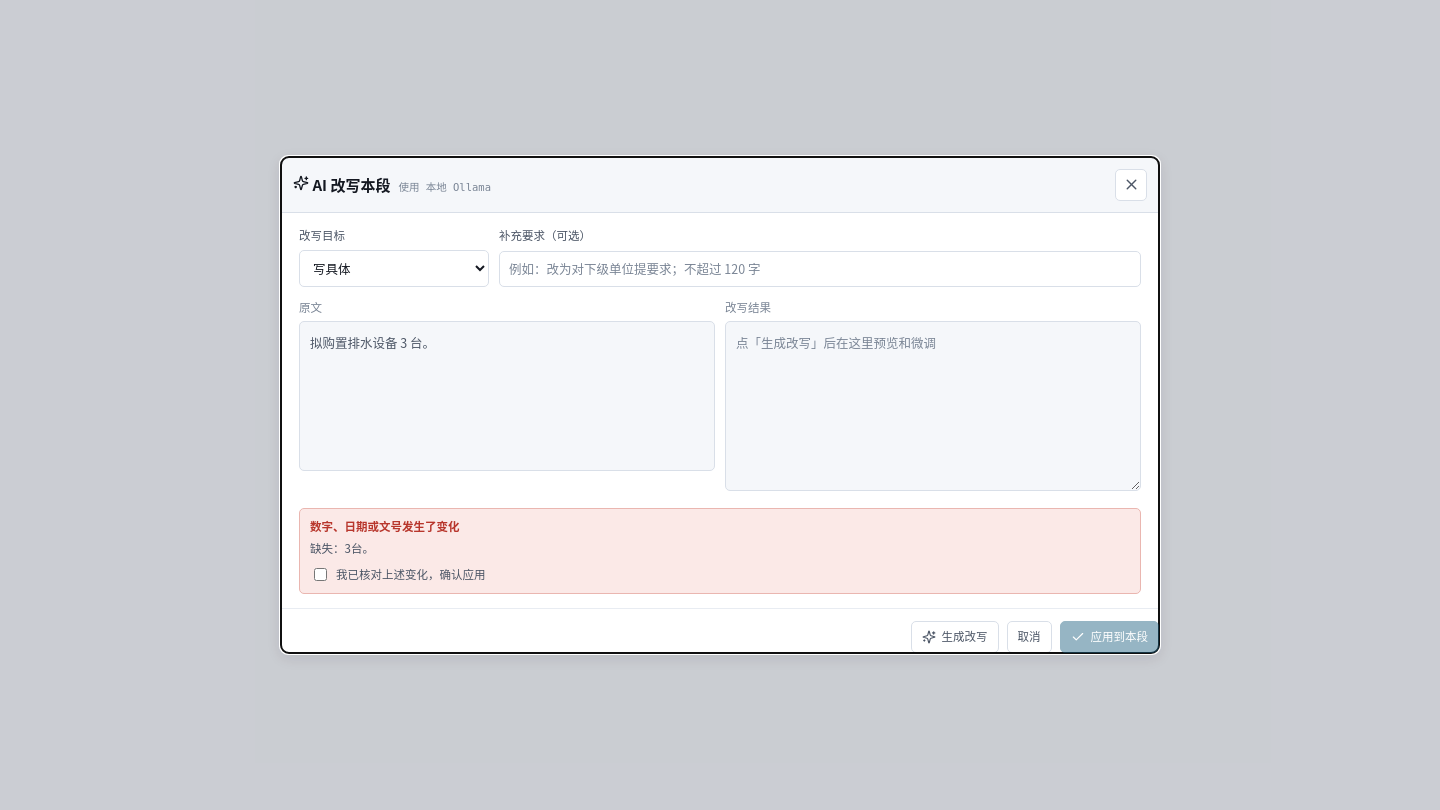
BlockRewriteDialog › reports model failures without touching the document
The image size is (1440, 810).
Click the button "生成改写".
click(954, 637)  # box [910, 621, 998, 653]
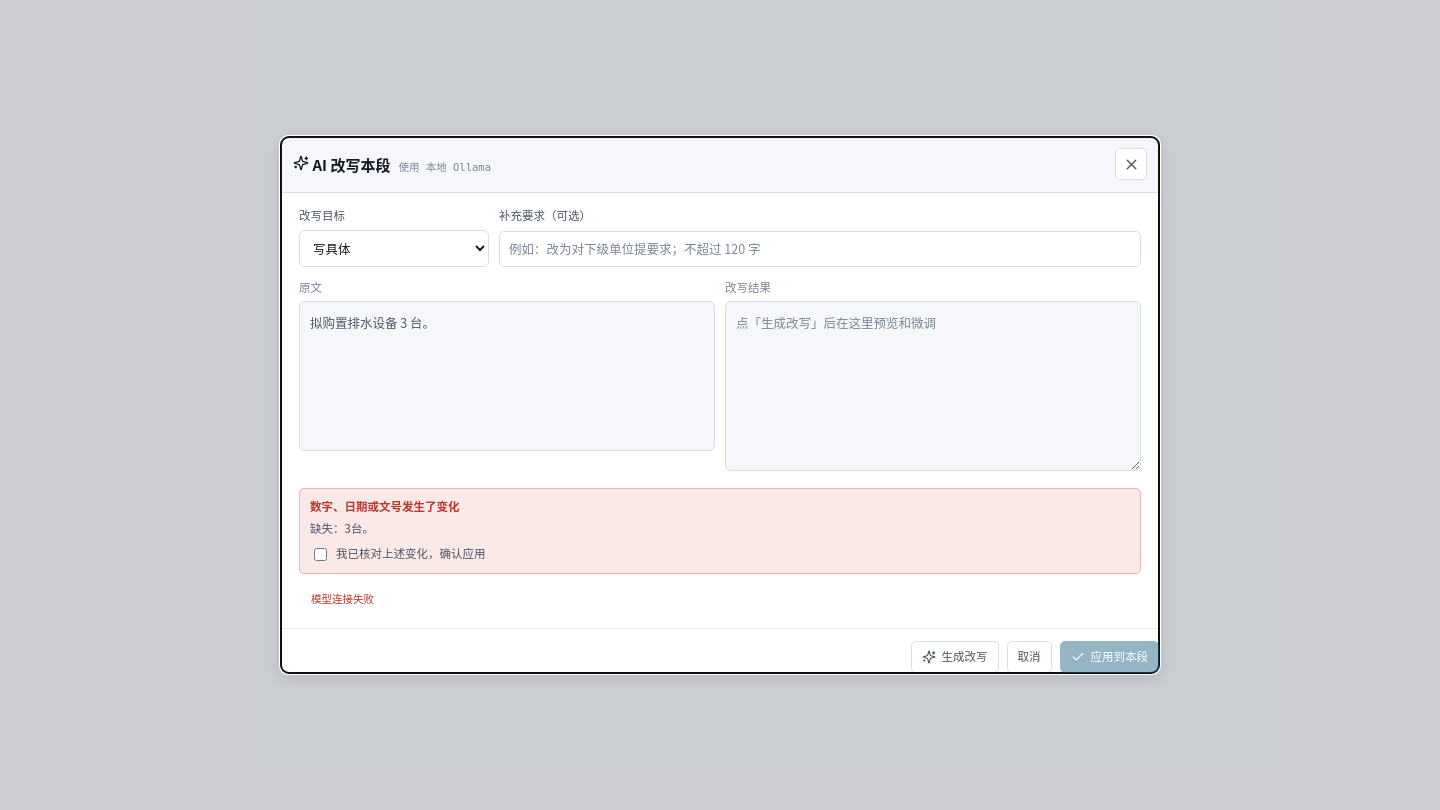
Check: the text "模型连接失败" is shown, box [311, 591, 374, 606]
